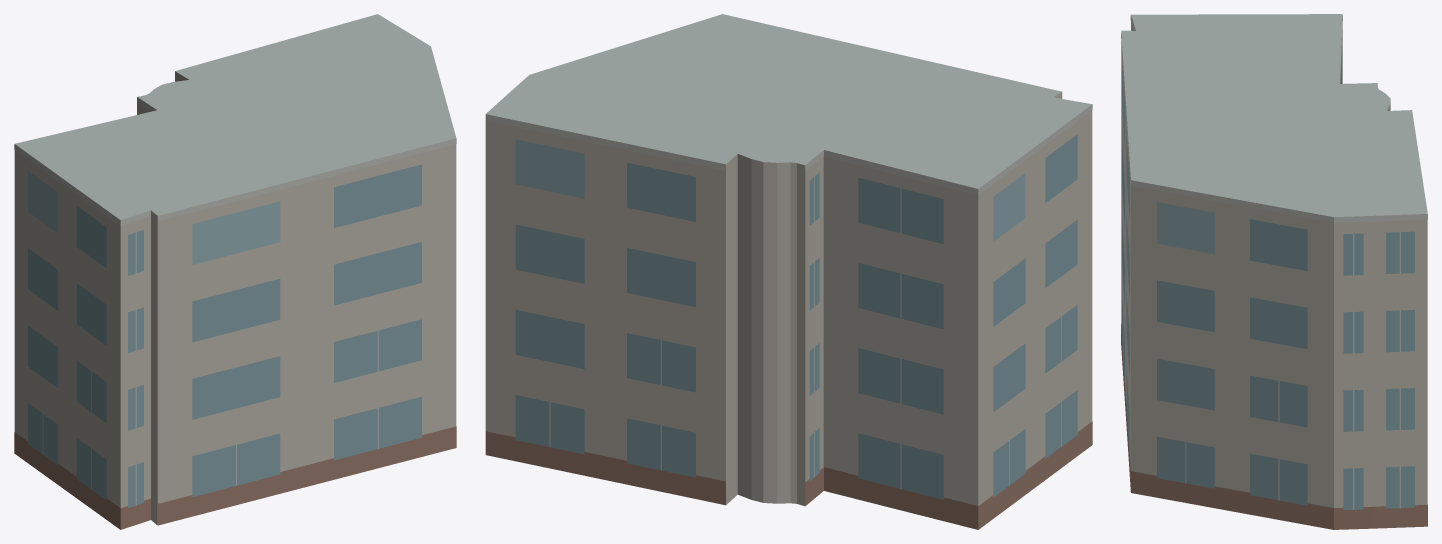
Rendered from survey-upis-32609118.glb.
The picture shows the model from 3 angles, left to right: view 1: azimuth 30°, elevation 25°; view 2: azimuth 150°, elevation 25°; view 3: azimuth 270°, elevation 25°; orthographic projection. The views are drawn at different scales.
Parts seen in each view (by area): view 1: survey-upis-32609118.tmp; view 2: survey-upis-32609118.tmp; view 3: survey-upis-32609118.tmp.
Boxes of the visible parts, x1,y1,x2,y2 form: survey-upis-32609118.tmp: [14, 14, 456, 529]; survey-upis-32609118.tmp: [485, 14, 1092, 529]; survey-upis-32609118.tmp: [1121, 14, 1427, 529].
Size of the model in its own units: 18.4 by 13.2 by 11.74.
